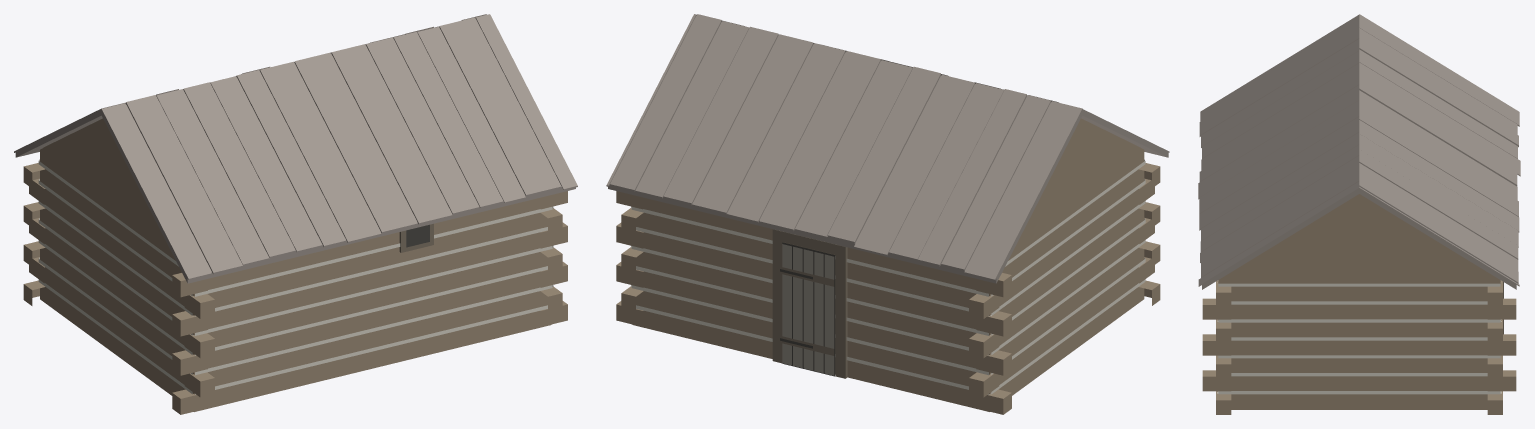
Rendered from first_fort_outer_stable_north__first_fort_1803.glb.
The picture shows the model from 3 angles, left to right: view 1: azimuth 30°, elevation 25°; view 2: azimuth 150°, elevation 25°; view 3: azimuth 270°, elevation 25°; orthographic projection. The views are drawn at different scales.
Parts seen in each view (by area): view 1: first_fort_outer_stable_north__first_fort_1803; view 2: first_fort_outer_stable_north__first_fort_1803; view 3: first_fort_outer_stable_north__first_fort_1803.
Boxes of the visible parts, left/top/right/bottom form: first_fort_outer_stable_north__first_fort_1803: left=14, top=14, right=577, bottom=414; first_fort_outer_stable_north__first_fort_1803: left=606, top=14, right=1169, bottom=414; first_fort_outer_stable_north__first_fort_1803: left=1198, top=14, right=1520, bottom=414.
Size of the model in its own units: 6.29 by 3.9 by 4.94.
